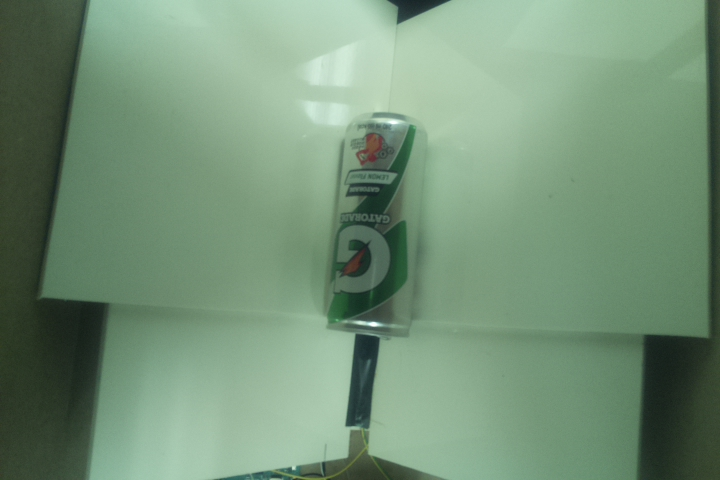can: (317, 108, 428, 340)
